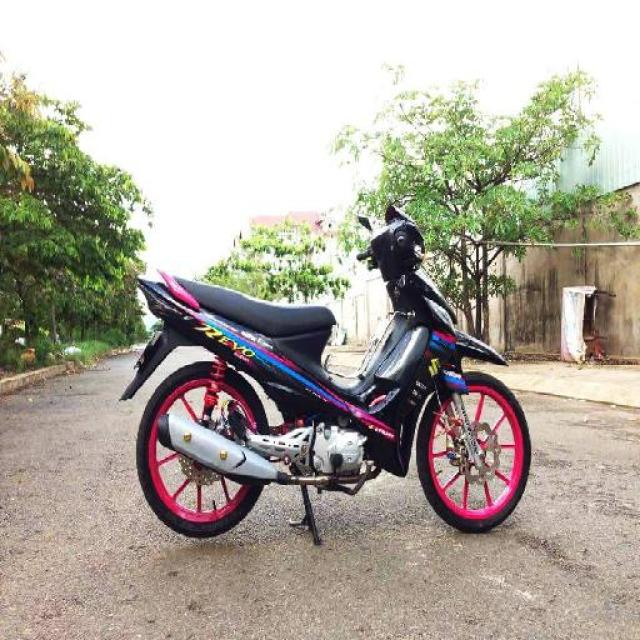All: (115, 206, 540, 543)
Head: (354, 220, 431, 275)
Tail: (132, 268, 205, 332)
